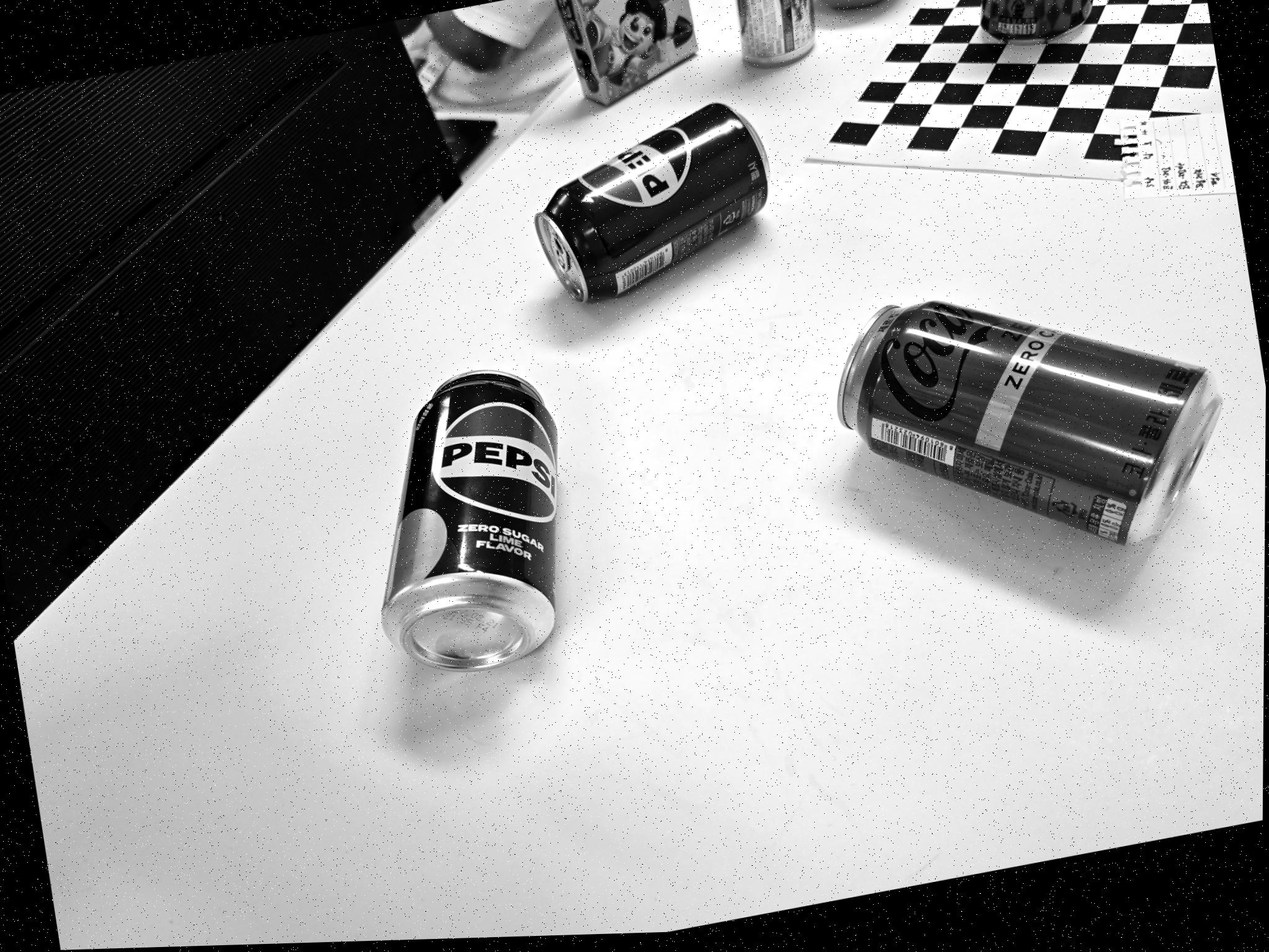can_coke_decaf: (832, 298, 1224, 549)
can_pepsi: (532, 103, 772, 307)
can_pepsi_zero: (380, 370, 556, 675)
